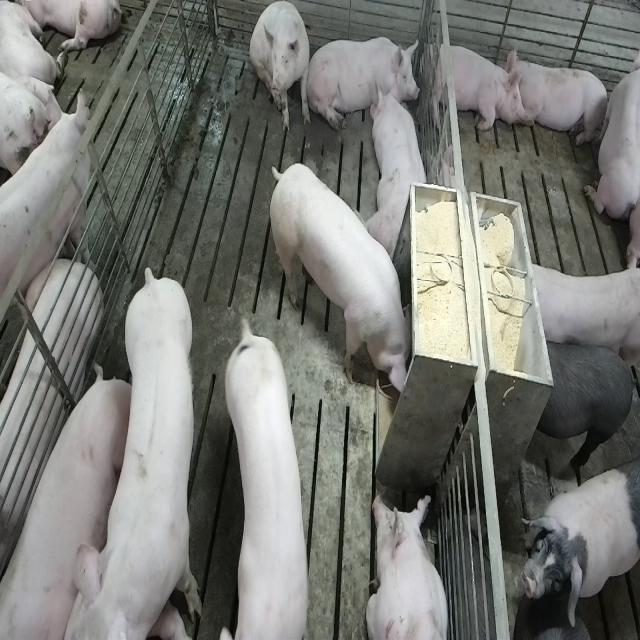Feeding: (265, 161, 411, 397)
Lateral_lying: (0, 371, 127, 640)
Sitting: (250, 1, 311, 134)
Standing: (78, 259, 206, 636), (226, 322, 316, 640), (0, 92, 90, 335), (519, 466, 638, 615), (529, 338, 636, 480), (522, 257, 637, 367)
Sternal_lying: (366, 489, 450, 640), (370, 83, 431, 262), (312, 29, 418, 132), (583, 37, 637, 223), (510, 52, 611, 149), (425, 36, 522, 135)
